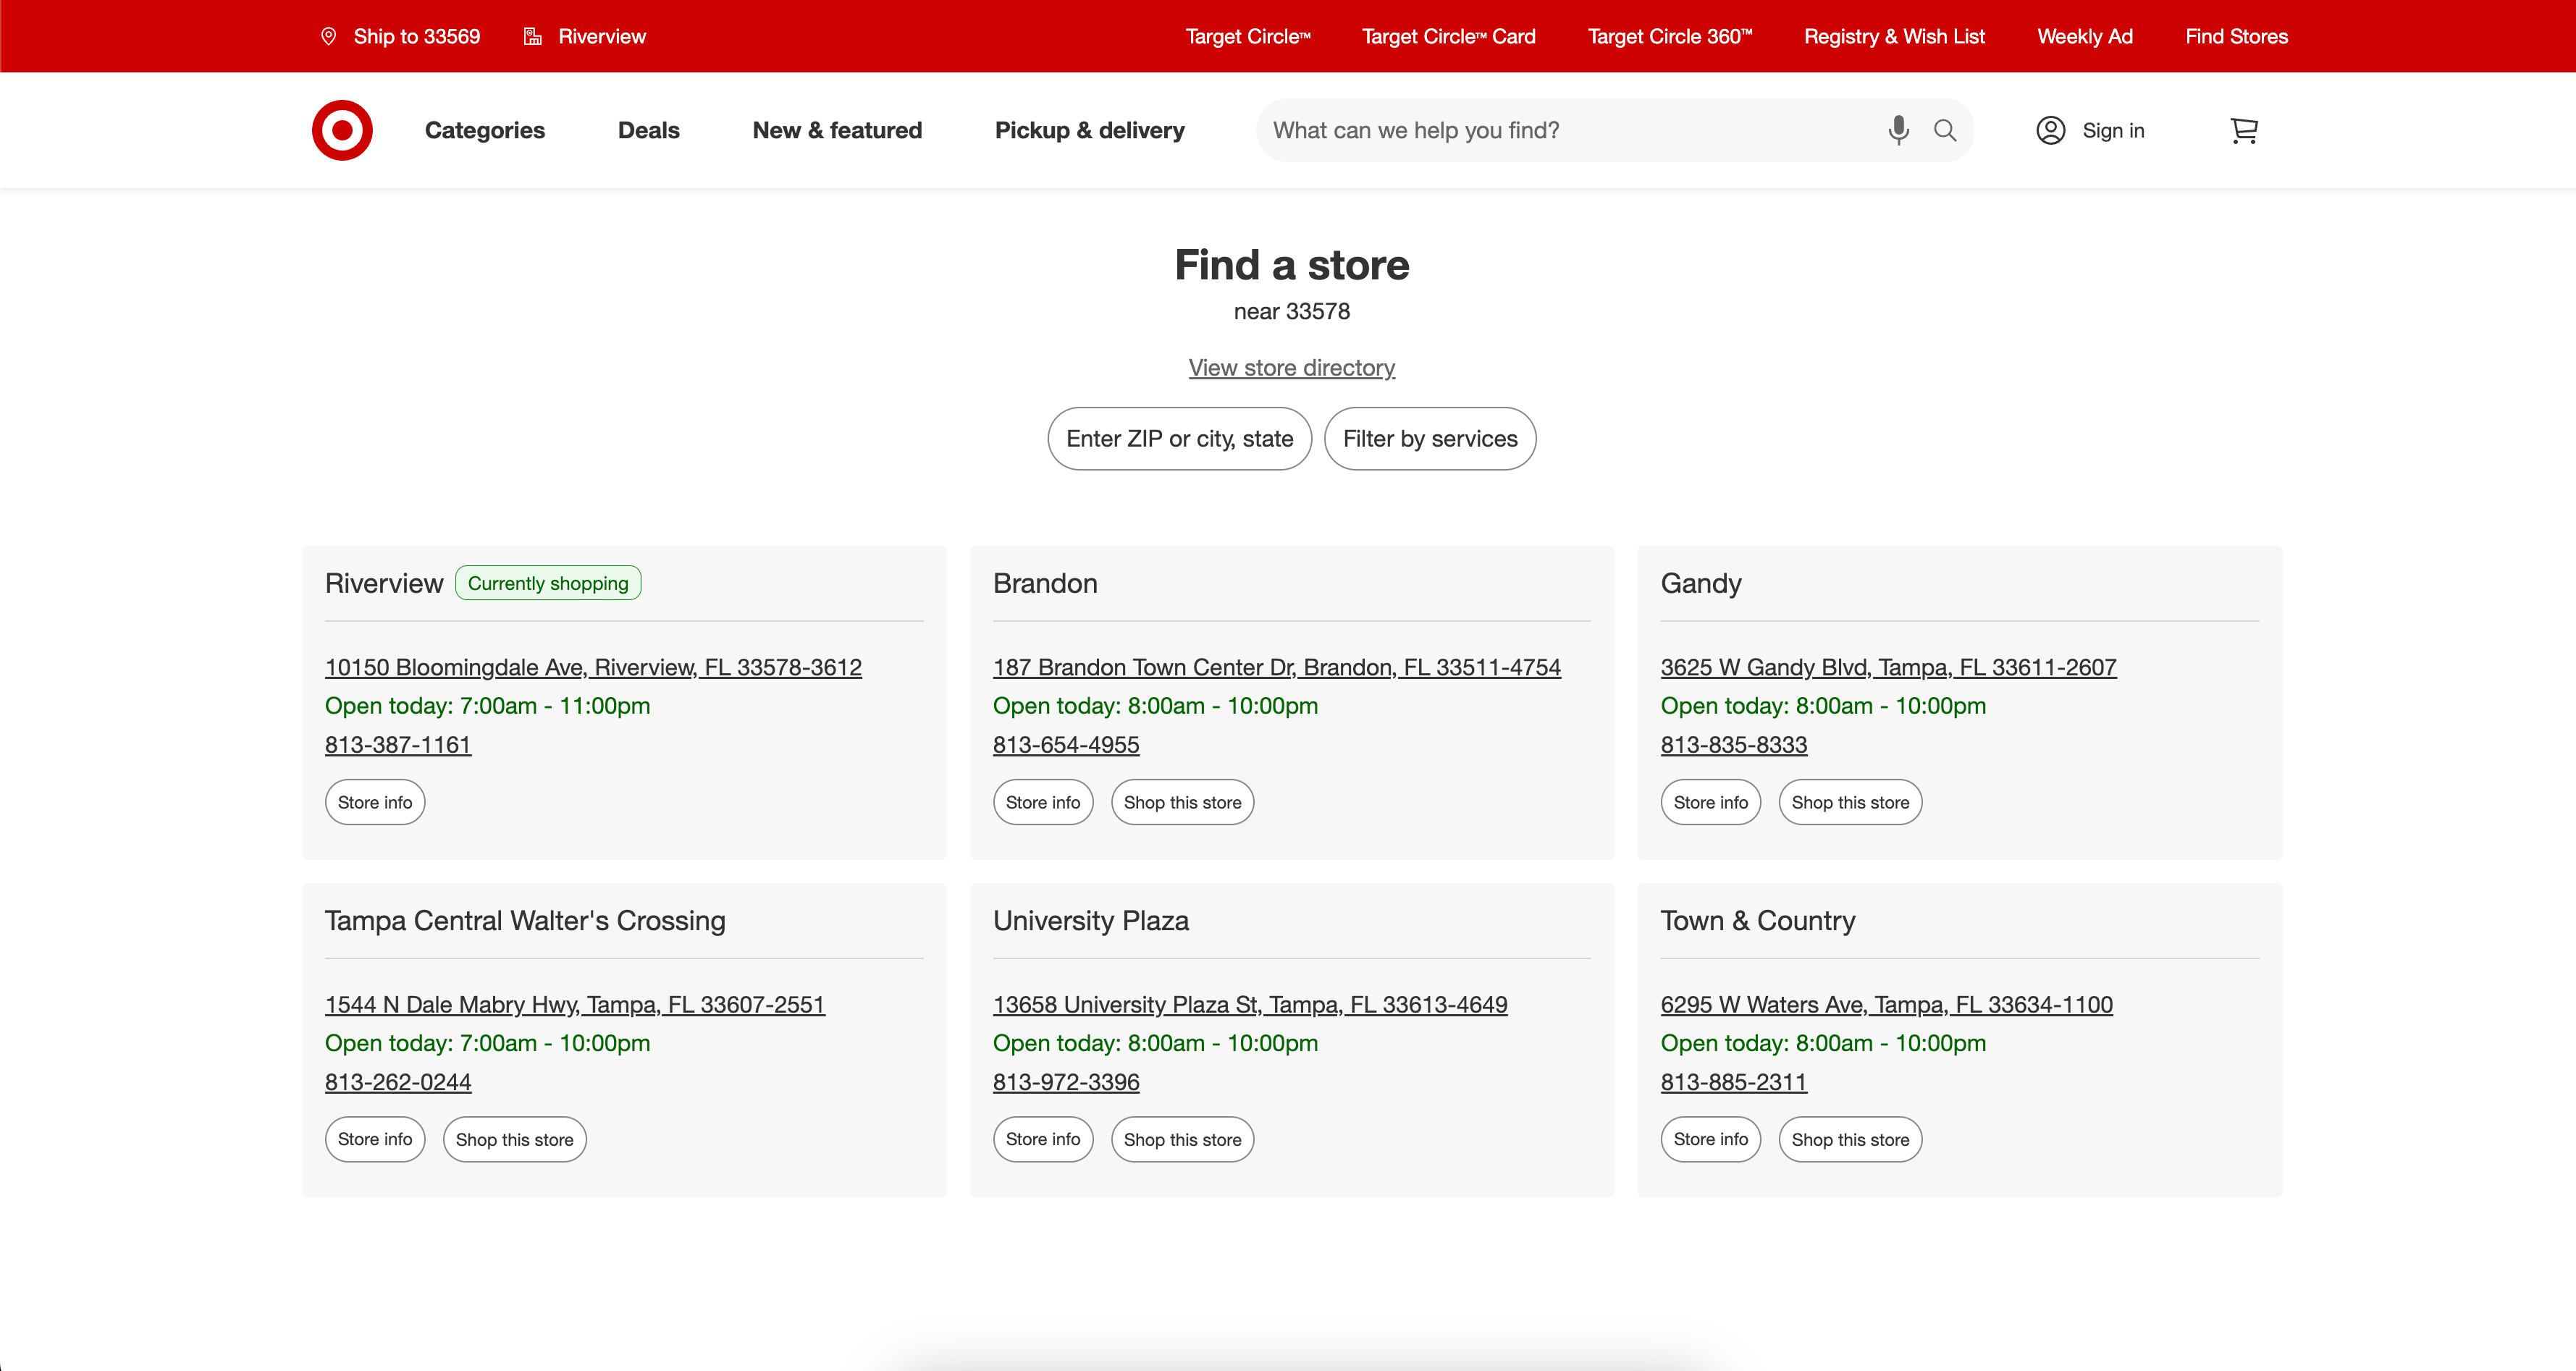button: (1048, 405, 1314, 472), (1324, 407, 1537, 472), (310, 12, 492, 56), (511, 17, 668, 61), (1780, 778, 1923, 826), (445, 1116, 588, 1163), (1113, 1116, 1256, 1163), (1113, 778, 1256, 824), (1780, 1117, 1923, 1162), (1659, 778, 1763, 826), (992, 1116, 1095, 1163), (325, 778, 428, 826), (993, 778, 1095, 826), (325, 1116, 426, 1163), (1661, 1116, 1762, 1163), (2034, 114, 2147, 146)
input: (1257, 97, 1976, 165)
label: (1271, 119, 1561, 143)
